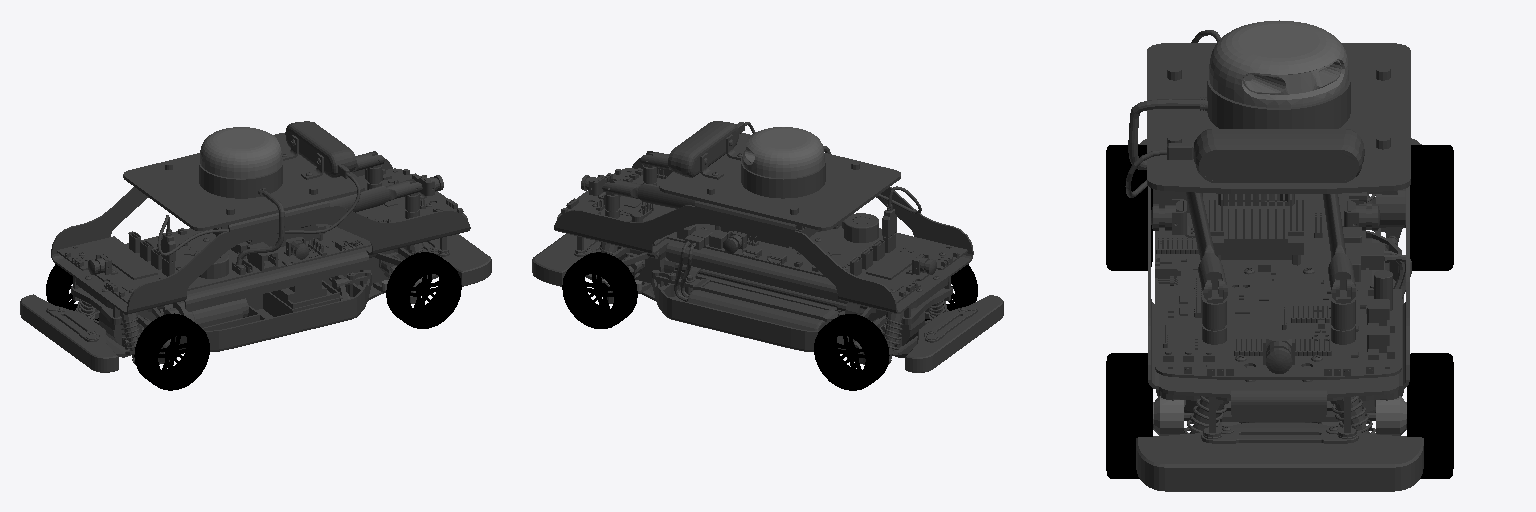
The robot description file, URDF, robot "QCar":
<?xml version="1.0" ?>
<robot name="QCar" xmlns:xacro="http://www.ros.org/wiki/xacro">
    <material name="Black">
        <color rgba="0.0 0.0 0.0 1.0"/>
    </material>
    <material name="Blue">
        <color rgba="0.0 0.0 0.8 1.0"/>
    </material>
    <material name="Green">
        <color rgba="0.0 0.8 0.0 1.0"/>
    </material>
    <material name="Grey">
        <color rgba="0.4 0.4 0.4 1.0"/>
    </material>
    <material name="DarkGrey">
        <color rgba="0.3 0.3 0.3 1.0"/>
    </material>
    <material name="Orange">
        <color rgba="1.0 0.423529411765 0.0392156862745 1.0"/>
    </material>
    <material name="Brown">
        <color rgba="0.870588235294 0.811764705882 0.764705882353 1.0"/>
    </material>
    <material name="Red">
        <color rgba="0.8 0.0 0.0 1.0"/>
    </material>
    <material name="White">
        <color rgba="1.0 1.0 1.0 1.0"/>
    </material>

<!--
    ###################################################################################################################
    Not that all mass/inertial values are examples values only. They are not representative of the actual components.
    ###################################################################################################################
-->
<!--
    Uncomment this if you want the robot to be anchored to the world frame/ground plane.
    <link name="world"/>
    <joint name="world_base_joint" type="fixed">
        <origin rpy="0 0 0" xyz="0 0 0"/>
        <parent link="world"/>
        <child link="base"/>
    </joint>
-->
    <link name="base">
        <visual>
            <origin rpy="0 0 0" xyz="0 0 0"/>
            <geometry>
                <mesh filename="package://qcar/meshes/QCarBody.stl" scale="0.001 0.001 0.001"/>
            </geometry>
            <material name="DarkGrey"/>
        </visual>
        <collision>
            <origin rpy="0 0 0" xyz="0 0 0"/>
            <geometry>
                <mesh filename="package://qcar/meshes/QCarBody.stl" scale="0.001 0.001 0.001"/>
            </geometry>
        </collision>
        <inertial>
            <origin rpy="0 0 0" xyz="0 0 0"/>
            <mass value="0.1"/>
            <inertia ixx="0.001" ixy="0" ixz="0" iyy="0.001" iyz="0" izz="0.001"/>
        </inertial>
    </link>
    <joint name="body_lidar_joint" type="continuous">
        <parent link="base"/>
        <child link="lidar"/>
        <origin rpy="0 0 0" xyz="-0.01227 -0.00045 0.16152"/>
        <axis xyz="0 0 1"/>
    </joint>
    <link name="lidar">
        <visual>
            <origin rpy="0 0 0" xyz="0 0 0"/>
            <geometry>
                <mesh filename="package://qcar/meshes/QCarLidar.stl" scale="0.001 0.001 0.001"/>
            </geometry>
            <material name="Grey"/>
        </visual>
        <collision>
            <origin rpy="0 0 0" xyz="0 0 0"/>
            <geometry>
                <mesh filename="package://qcar/meshes/QCarLidar.stl" scale="0.001 0.001 0.001"/>
            </geometry>
        </collision>
        <inertial>
            <origin rpy="0 0 0" xyz="0 0 0"/>
            <mass value="0.1"/>
            <inertia ixx="0.001" ixy="0" ixz="0" iyy="0.001" iyz="0" izz="0.001"/>
        </inertial>
    </link>
    <joint name="base_hubfl_joint" type="revolute">
        <parent link="base"/>
        <child link="hubfl"/>
        <origin rpy="0 0 0" xyz="0.12960 0.05590 0.03338"/>
        <axis xyz="0 0 1"/>
        <limit lower="-0.5236" upper="0.5236" effort="300" velocity="2"/>
    </joint>
    <link name="hubfl">
        <visual>
            <origin rpy="0 0 0" xyz="0 0 0"/>
            <geometry>
                <mesh filename="package://qcar/meshes/QCarSteeringHubL.stl" scale="0.001 0.001 0.001"/>
            </geometry>
            <material name="Grey"/>
        </visual>
        <collision>
            <origin rpy="0 0 0" xyz="0 0 0"/>
            <geometry>
                <mesh filename="package://qcar/meshes/QCarSteeringHubL.stl" scale="0.001 0.001 0.001"/>
            </geometry>
        </collision>
        <inertial>
            <origin rpy="0 0 0" xyz="0 0 0"/>
            <mass value="0.1"/>
            <inertia ixx="0.001" ixy="0" ixz="0" iyy="0.001" iyz="0" izz="0.001"/>
        </inertial>
    </link>
    <joint name="base_hubfr_joint" type="revolute">
        <parent link="base"/>
        <child link="hubfr"/>
        <origin rpy="0 0 0" xyz="0.12960 -0.05590 0.03338"/>
        <axis xyz="0 0 1"/>
        <limit lower="-0.5236" upper="0.5236" effort="300" velocity="2"/>
    </joint>
    <link name="hubfr">
        <visual>
            <origin rpy="0 0 0" xyz="0 0 0"/>
            <geometry>
                <mesh filename="package://qcar/meshes/QCarSteeringHubR.stl" scale="0.001 0.001 0.001"/>
            </geometry>
            <material name="Grey"/>
        </visual>
        <collision>
            <origin rpy="0 0 0" xyz="0 0 0"/>
            <geometry>
                <mesh filename="package://qcar/meshes/QCarSteeringHubR.stl" scale="0.001 0.001 0.001"/>
            </geometry>
        </collision>
        <inertial>
            <origin rpy="0 0 0" xyz="0 0 0"/>
            <mass value="0.1"/>
            <inertia ixx="0.001" ixy="0" ixz="0" iyy="0.001" iyz="0" izz="0.001"/>
        </inertial>
    </link>
    <joint name="hubfl_wheelfl_joint" type="continuous">
        <parent link="hubfl"/>
        <child link="wheelfl"/>
        <origin rpy="0 0 3.14" xyz="0 0 0"/>
        <axis xyz="0 1 0"/>
    </joint>
    <link name="wheelfl">
        <visual>
            <origin rpy="0 0 0" xyz="0 0 0"/>
            <geometry>
                <mesh filename="package://qcar/meshes/QCarWheel.stl" scale="0.001 0.001 0.001"/>
            </geometry>
            <material name="Black"/>
        </visual>
        <collision>
            <origin rpy="0 0 0" xyz="0 0 0"/>
            <geometry>
                <mesh filename="package://qcar/meshes/QCarWheel.stl" scale="0.001 0.001 0.001"/>
            </geometry>
        </collision>
        <inertial>
            <origin rpy="0 0 0" xyz="0 0 0"/>
            <mass value="0.1"/>
            <inertia ixx="0.001" ixy="0" ixz="0" iyy="0.001" iyz="0" izz="0.001"/>
        </inertial>
    </link>
    <joint name="hubfr_wheelfr_joint" type="continuous">
        <parent link="hubfr"/>
        <child link="wheelfr"/>
        <origin rpy="0 0 0" xyz="0 0 0"/>
        <axis xyz="0 1 0"/>
    </joint>
    <link name="wheelfr">
        <visual>
            <origin rpy="0 0 0" xyz="0 0 0"/>
            <geometry>
                <mesh filename="package://qcar/meshes/QCarWheel.stl" scale="0.001 0.001 0.001"/>
            </geometry>
            <material name="Black"/>
        </visual>
        <collision>
            <origin rpy="0 0 0" xyz="0 0 0"/>
            <geometry>
                <mesh filename="package://qcar/meshes/QCarWheel.stl" scale="0.001 0.001 0.001"/>
            </geometry>
        </collision>
        <inertial>
            <origin rpy="0 0 0" xyz="0 0 0"/>
            <mass value="0.1"/>
            <inertia ixx="0.001" ixy="0" ixz="0" iyy="0.001" iyz="0" izz="0.001"/>
        </inertial>
    </link>

    <joint name="base_wheelrl_joint" type="continuous">
        <parent link="base"/>
        <child link="wheelrl"/>
        <origin rpy="0 0 3.14" xyz="-0.12765 0.05610 0.03338"/>
        <axis xyz="0 1 0"/>
    </joint>
    <link name="wheelrl">
        <visual>
            <origin rpy="0 0 0" xyz="0 0 0"/>
            <geometry>
                <mesh filename="package://qcar/meshes/QCarWheel.stl" scale="0.001 0.001 0.001"/>
            </geometry>
            <material name="Black"/>
        </visual>
        <collision>
            <origin rpy="0 0 0" xyz="0 0 0"/>
            <geometry>
                <mesh filename="package://qcar/meshes/QCarWheel.stl" scale="0.001 0.001 0.001"/>
            </geometry>
        </collision>
        <inertial>
            <origin rpy="0 0 0" xyz="0 0 0"/>
            <mass value="0.1"/>
            <inertia ixx="0.001" ixy="0" ixz="0" iyy="0.001" iyz="0" izz="0.001"/>
        </inertial>
    </link>

    <joint name="base_wheelrr_joint" type="continuous">
        <parent link="base"/>
        <child link="wheelrr"/>
        <origin rpy="0 0 0" xyz="-0.12765 -0.05610 0.03338"/>
        <axis xyz="0 1 0"/>
    </joint>
    <link name="wheelrr">
        <visual>
            <origin rpy="0 0 0" xyz="0 0 0"/>    
            <geometry>
                <mesh filename="package://qcar/meshes/QCarWheel.stl" scale="0.001 0.001 0.001"/>
            </geometry>
            <material name="Black"/>
        </visual>
        <collision>
            <origin rpy="0 0 0" xyz="0 0 0"/>
            <geometry>
                <mesh filename="package://qcar/meshes/QCarWheel.stl" scale="0.001 0.001 0.001"/>
            </geometry>
        </collision>
        <inertial>
            <origin rpy="0 0 0" xyz="0 0 0"/>
            <mass value="0.1"/>
            <inertia ixx="0.001" ixy="0" ixz="0" iyy="0.001" iyz="0" izz="0.001"/>
        </inertial>
    </link>
    
<!--
    <gazebo>
        <plugin filename="libgazebo_ros_control.so" name="gazebo_ros_control">
            <robotNamespace>/QCar</robotNamespace>
        </plugin>
    </gazebo>
-->

    <gazebo reference="base">
        <material>Gazebo/DarkGrey</material>
    </gazebo>
    <gazebo reference="lidar">
        <material>Gazebo/Grey</material>
    </gazebo>
    <gazebo reference="hubfl">
        <material>Gazebo/Grey</material>
    </gazebo>
    <gazebo reference="hubfr">
        <material>Gazebo/Grey</material>
    </gazebo>
    <gazebo reference="wheelfl">
        <material>Gazebo/Black</material>
    </gazebo>
    <gazebo reference="wheelfr">
        <material>Gazebo/Black</material>
    </gazebo>
    <gazebo reference="wheelrl">
        <material>Gazebo/Black</material>
    </gazebo>
    <gazebo reference="wheelrr">
        <material>Gazebo/Black</material>
    </gazebo>

    <transmission name="body_lidar_tran">
        <type>>transmission_interface/SimpleTransmission</type>
        <joint name="body_lidar_joint">
            <hardwareInterface>hardware_interface/EffortJointInterface</hardwareInterface>
        </joint>
        <actuator name="body_lidar_motor">
            <mechanicalReduction>1</mechanicalReduction>
        </actuator>
    </transmission>

    <transmission name="base_hubfl_tran">
        <type>>transmission_interface/SimpleTransmission</type>
        <joint name="base_hubfl_joint">
            <hardwareInterface>hardware_interface/EffortJointInterface</hardwareInterface>
        </joint>
        <actuator name="base_hubfl_motor">
            <mechanicalReduction>1</mechanicalReduction>
        </actuator>
    </transmission>
    <transmission name="base_hubfr_tran">
        <type>>transmission_interface/SimpleTransmission</type>
        <joint name="base_hubfr_joint">
            <hardwareInterface>hardware_interface/EffortJointInterface</hardwareInterface>
        </joint>
        <actuator name="base_hubfr_motor">
            <mechanicalReduction>1</mechanicalReduction>
        </actuator>
    </transmission>

    <transmission name="hubfl_wheelfl_tran">
        <type>>transmission_interface/SimpleTransmission</type>
        <joint name="hubfl_wheelfl_joint">
            <hardwareInterface>hardware_interface/EffortJointInterface</hardwareInterface>
        </joint>
        <actuator name="hubfl_wheelfl_motor">
            <mechanicalReduction>1</mechanicalReduction>
        </actuator>
    </transmission>
    <transmission name="hubfr_wheelfr_tran">
        <type>>transmission_interface/SimpleTransmission</type>
        <joint name="hubfr_wheelfr_joint">
            <hardwareInterface>hardware_interface/EffortJointInterface</hardwareInterface>
        </joint>
        <actuator name="hubfr_wheelfr_motor">
            <mechanicalReduction>1</mechanicalReduction>
        </actuator>
    </transmission>

    <transmission name="base_wheelrl_tran">
        <type>>transmission_interface/SimpleTransmission</type>
        <joint name="base_wheelrl_joint">
            <hardwareInterface>hardware_interface/EffortJointInterface</hardwareInterface>
        </joint>
        <actuator name="base_wheelrl_motor">
            <mechanicalReduction>1</mechanicalReduction>
        </actuator>
    </transmission>
    <transmission name="base_wheelrr_tran">
        <type>>transmission_interface/SimpleTransmission</type>
        <joint name="base_wheelrr_joint">
            <hardwareInterface>hardware_interface/EffortJointInterface</hardwareInterface>
        </joint>
        <actuator name="base_wheelrr_motor">
            <mechanicalReduction>1</mechanicalReduction>
        </actuator>
    </transmission>
</robot>

--- Facts derived from the render (not from the file) ---
The picture shows the robot from 3 angles, left to right: view 1: azimuth 30°, elevation 25°; view 2: azimuth 150°, elevation 25°; view 3: azimuth 270°, elevation 25°; orthographic projection.
Model QCar with 8 links and 7 joints (2 revolute, 5 continuous), rooted at base, posed all joints at 0.
Links seen in each view (by area): view 1: base, wheelfr, wheelrr, lidar, wheelrl; view 2: base, wheelfl, wheelrl, lidar, wheelrr; view 3: base, lidar, wheelrl, wheelfl, wheelfr, wheelrr, hubfl, hubfr.
Boxes of the visible links, x1,y1,x2,y2 form: base: (20, 121, 491, 372); wheelfr: (386, 252, 461, 328); wheelrr: (134, 313, 209, 390); lidar: (200, 127, 281, 178); wheelrl: (46, 264, 98, 320); base: (532, 121, 1003, 372); wheelfl: (562, 252, 637, 328); wheelrl: (814, 314, 889, 390); lidar: (742, 127, 824, 177); wheelrr: (925, 264, 977, 320); base: (1125, 30, 1423, 491); lidar: (1209, 20, 1348, 107); wheelrl: (1410, 145, 1453, 270); wheelfl: (1407, 353, 1453, 478); wheelfr: (1106, 353, 1152, 478); wheelrr: (1106, 145, 1152, 270); hubfl: (1374, 396, 1406, 435); hubfr: (1153, 396, 1185, 435).
Size in the robot's own frame: 0.4087 by 0.1818 by 0.1827 metres.
Meshes: 5 distinct files referenced, 8 mesh visuals loaded (5 binary STL).
